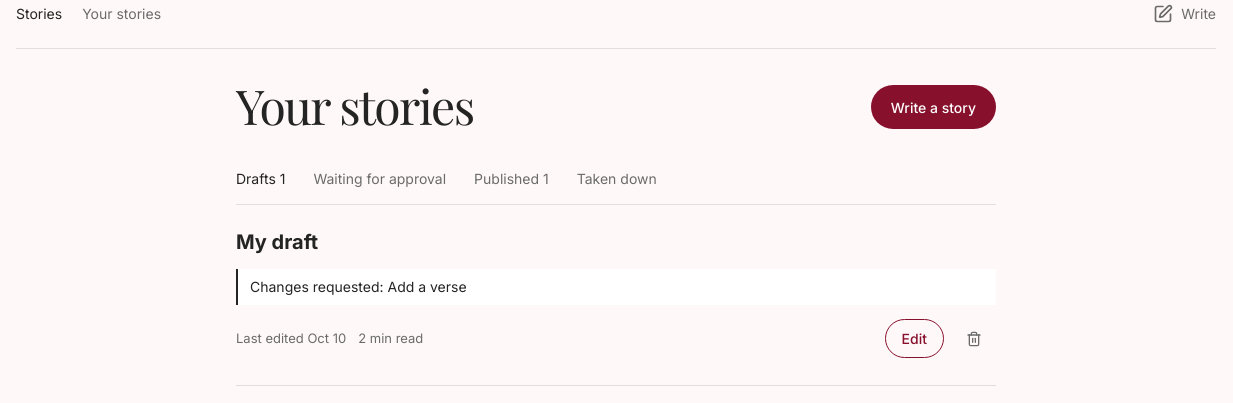
Test: your stories › groups them by status and shows a requested change
The image size is (1233, 403).
Check: the heading "My draft" is shown, box [236,230,318,254]
Check: the text "Changes requested: Add a verse" is shown, box [236,268,996,304]
Click the tab "Published 1".
click(511, 183)  # box [474,161,549,205]
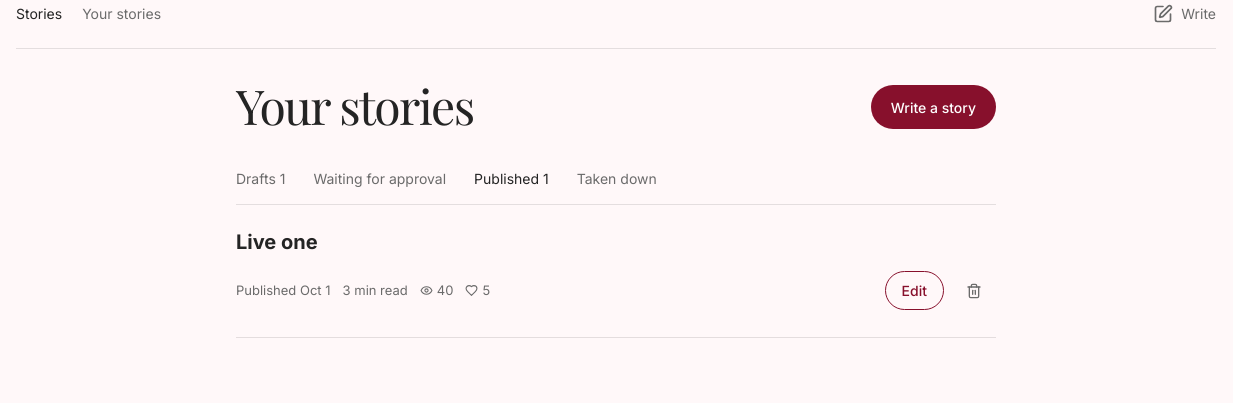
Check: the heading "Live one" is shown, box [236,230,318,254]
Check: the link "My draft" is gone
